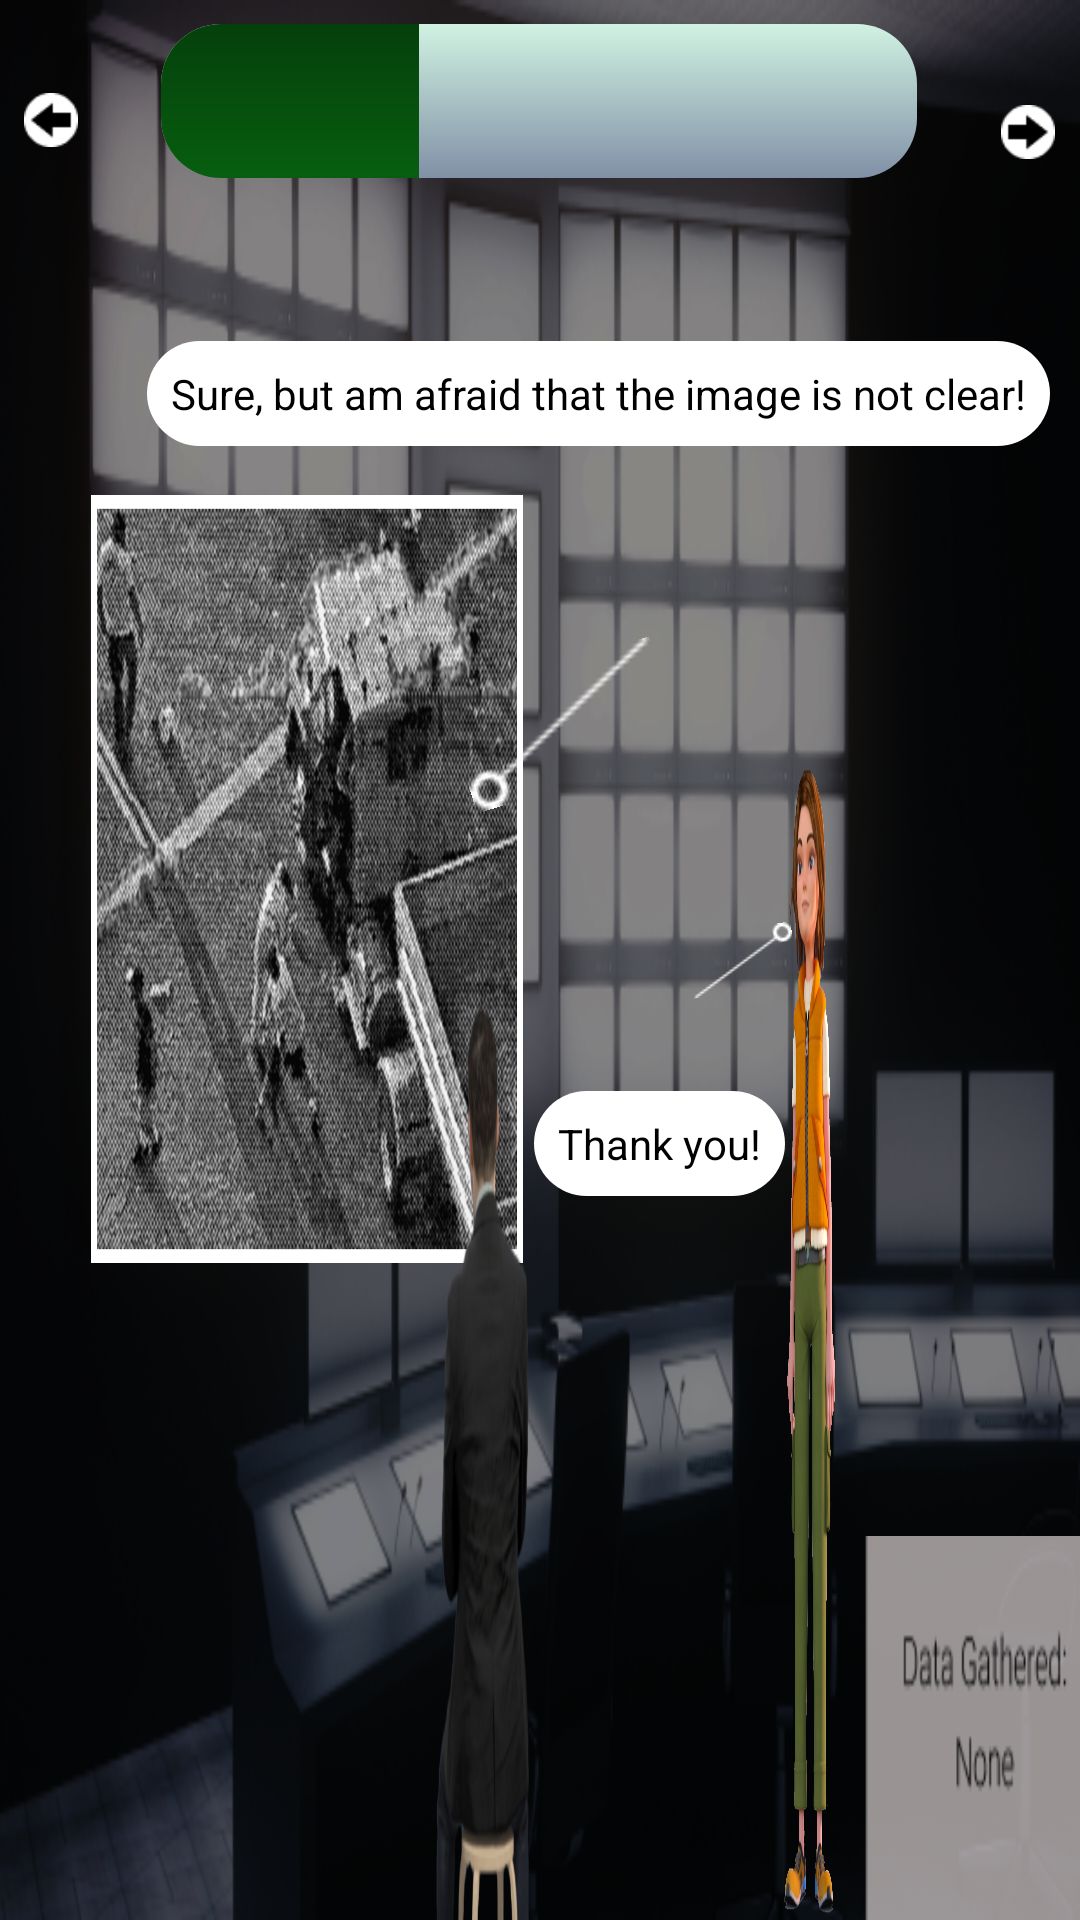

Icon bounding boxes for this 1080*1920 phone screenshot, format rect(x1, y1, x2, y2):
arrow: rect(24, 93, 78, 147)
next: rect(1001, 105, 1055, 159)
